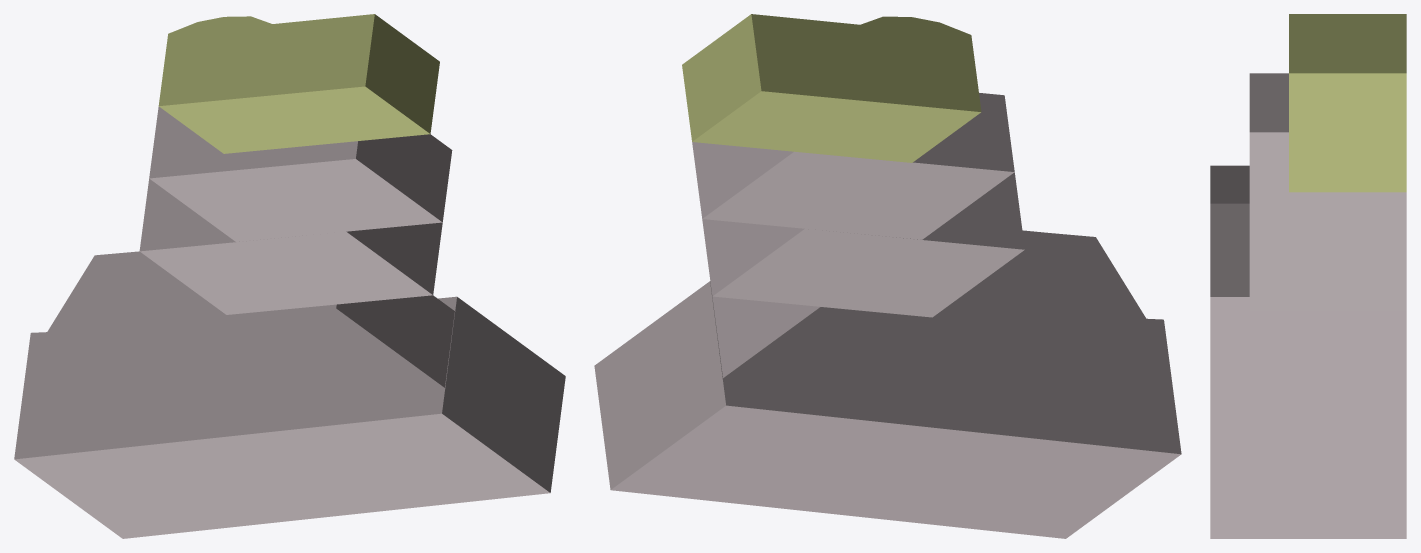
3 views of the same model, side by side, from view 1: azimuth 30°, elevation 25°; view 2: azimuth 150°, elevation 25°; view 3: azimuth 270°, elevation 25° (orthographic). The views are drawn at different scales.
Parts seen in each view (by area): view 1: 0_0_1_2_3_3_0_0_0; view 2: 0_0_1_2_3_3_0_0_0; view 3: 0_0_1_2_3_3_0_0_0.
Part boxes in pixels (x1=…): 0_0_1_2_3_3_0_0_0: x1=14, y1=14, x2=565, y2=538; 0_0_1_2_3_3_0_0_0: x1=594, y1=14, x2=1181, y2=538; 0_0_1_2_3_3_0_0_0: x1=1210, y1=14, x2=1406, y2=538.
Bounding box in the file's own units: 35.3 × 34.36 × 15.
